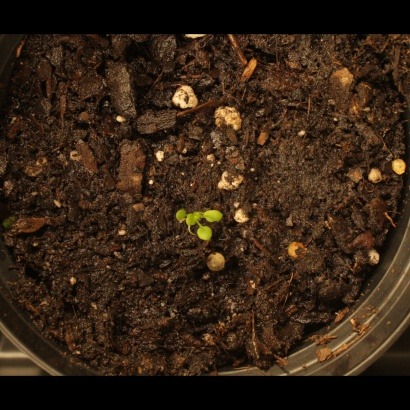leaf: (192, 225, 215, 248), (203, 201, 226, 224), (163, 207, 186, 230), (178, 208, 201, 231)
